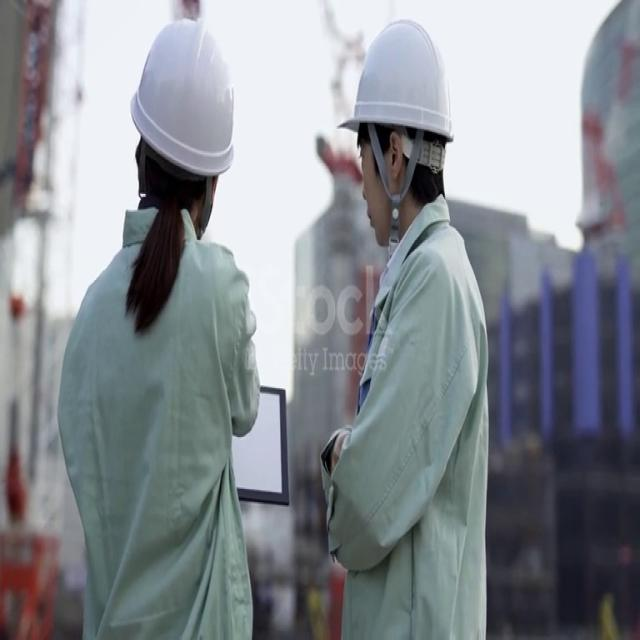capacete: (123, 0, 250, 187), (340, 13, 472, 173)
